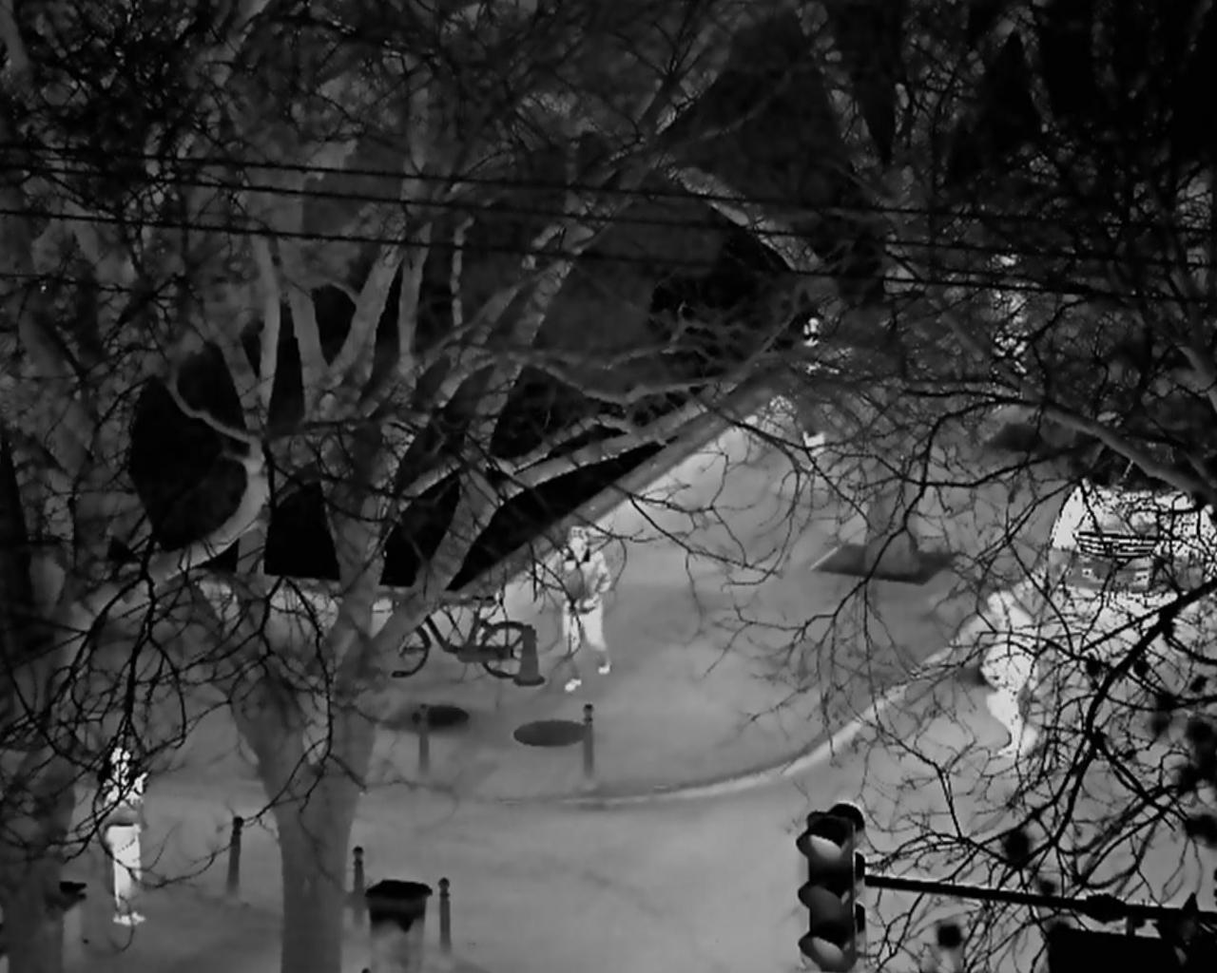person: (560, 525, 611, 693), (103, 747, 147, 925)
